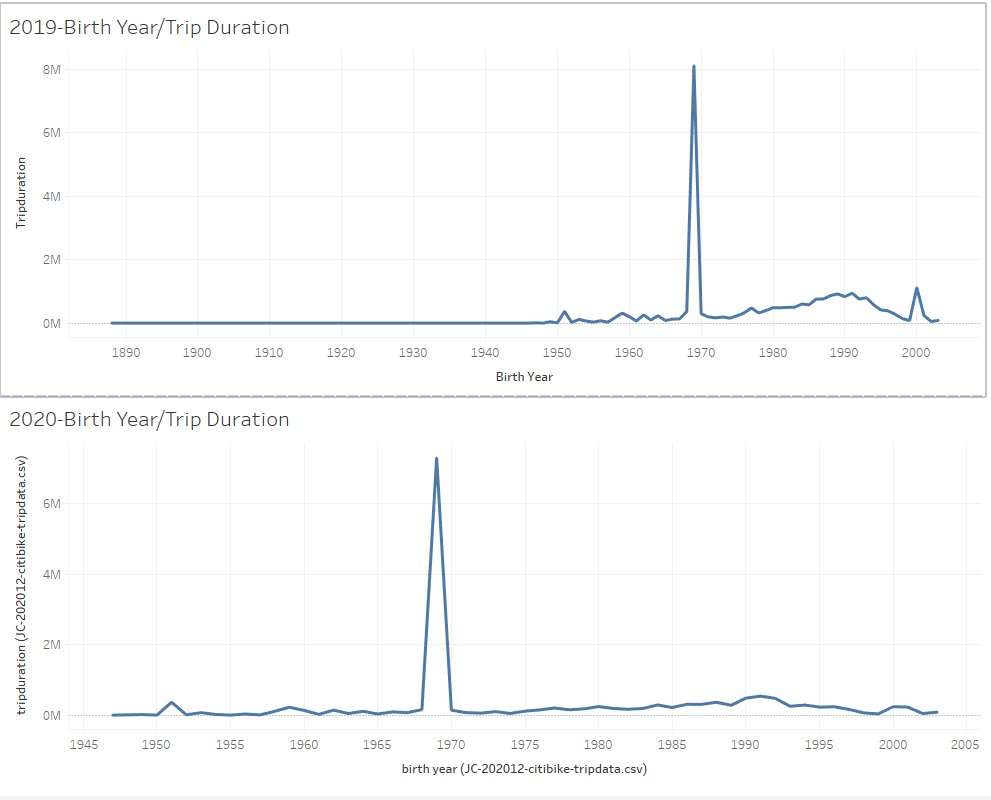

Layout of this report page (visuals, bound fields, positions):
{"tool":"tableau","page":{"name":"Dashboard-Age vs Trip Duration","canvas":[1000,800],"ordinal":1},"visuals":[{"type":"worksheet","box":[0,0,1000,800]},{"type":"worksheet","title":"2019-Birth Year/Trip Duration","mark":"Automatic","rows":["tripduration"],"cols":["birth year"],"box":[8,8,984,392]},{"type":"worksheet","title":"2020-Birth Year/Trip Duration","mark":"Automatic","rows":["tripduration (JC-202012-citibike-tripdata.csv)"],"cols":["birth year (JC-202012-citibike-tripdata.csv)"],"box":[8,400,984,392]}]}

Visuals, with their boxes in screenshot pixels (x1, y1, x2, y2), scaled from the page's 1000x800 canvas onto the 991x800 screenshot:
worksheet: (left=0, top=0, right=990, bottom=799)
"2019-Birth Year/Trip Duration" worksheet: (left=8, top=8, right=983, bottom=400)
"2020-Birth Year/Trip Duration" worksheet: (left=8, top=400, right=983, bottom=792)
